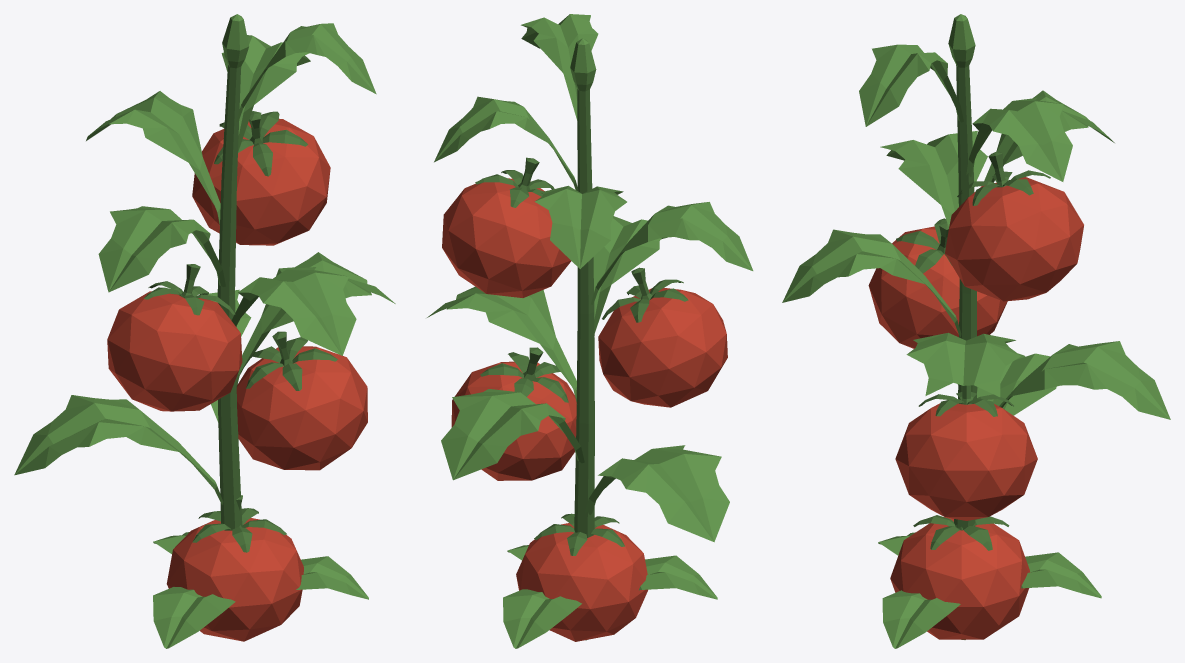
Rendered from Tomato.fbx.
The picture shows the model from 3 angles, left to right: view 1: azimuth 30°, elevation 25°; view 2: azimuth 150°, elevation 25°; view 3: azimuth 270°, elevation 25°; orthographic projection. The views are drawn at different scales.
Visible parts, largest first — view 1: Tomato_Plant, Tomato.002, Tomato.001, Tomato_Crop, Tomato.003, Tomato_Sprout; view 2: Tomato_Plant, Tomato.002, Tomato.003, Tomato_Crop, Tomato.001, Tomato_Sprout; view 3: Tomato_Plant, Tomato.003, Tomato.001, Tomato_Crop, Tomato.002, Tomato_Sprout.
Boxes of the visible parts, left/top/right/bottom form: Tomato_Plant: left=14, top=14, right=395, bottom=530; Tomato.002: left=107, top=264, right=242, bottom=411; Tomato.001: left=236, top=331, right=367, bottom=470; Tomato_Crop: left=166, top=495, right=303, bottom=641; Tomato.003: left=192, top=111, right=330, bottom=245; Tomato_Sprout: left=153, top=532, right=368, bottom=648; Tomato_Plant: left=427, top=14, right=753, bottom=640; Tomato.002: left=598, top=267, right=727, bottom=407; Tomato.003: left=442, top=157, right=571, bottom=297; Tomato_Crop: left=516, top=513, right=647, bottom=641; Tomato.001: left=451, top=347, right=576, bottom=480; Tomato_Sprout: left=503, top=545, right=717, bottom=648; Tomato_Plant: left=782, top=14, right=1170, bottom=639; Tomato.003: left=945, top=152, right=1083, bottom=301; Tomato.001: left=895, top=385, right=1037, bottom=520; Tomato_Crop: left=890, top=515, right=1030, bottom=639; Tomato.002: left=868, top=218, right=1007, bottom=348; Tomato_Sprout: left=878, top=532, right=1101, bottom=648.
Bounding box in the file's own units: 1.12 × 2.06 × 1.16.
